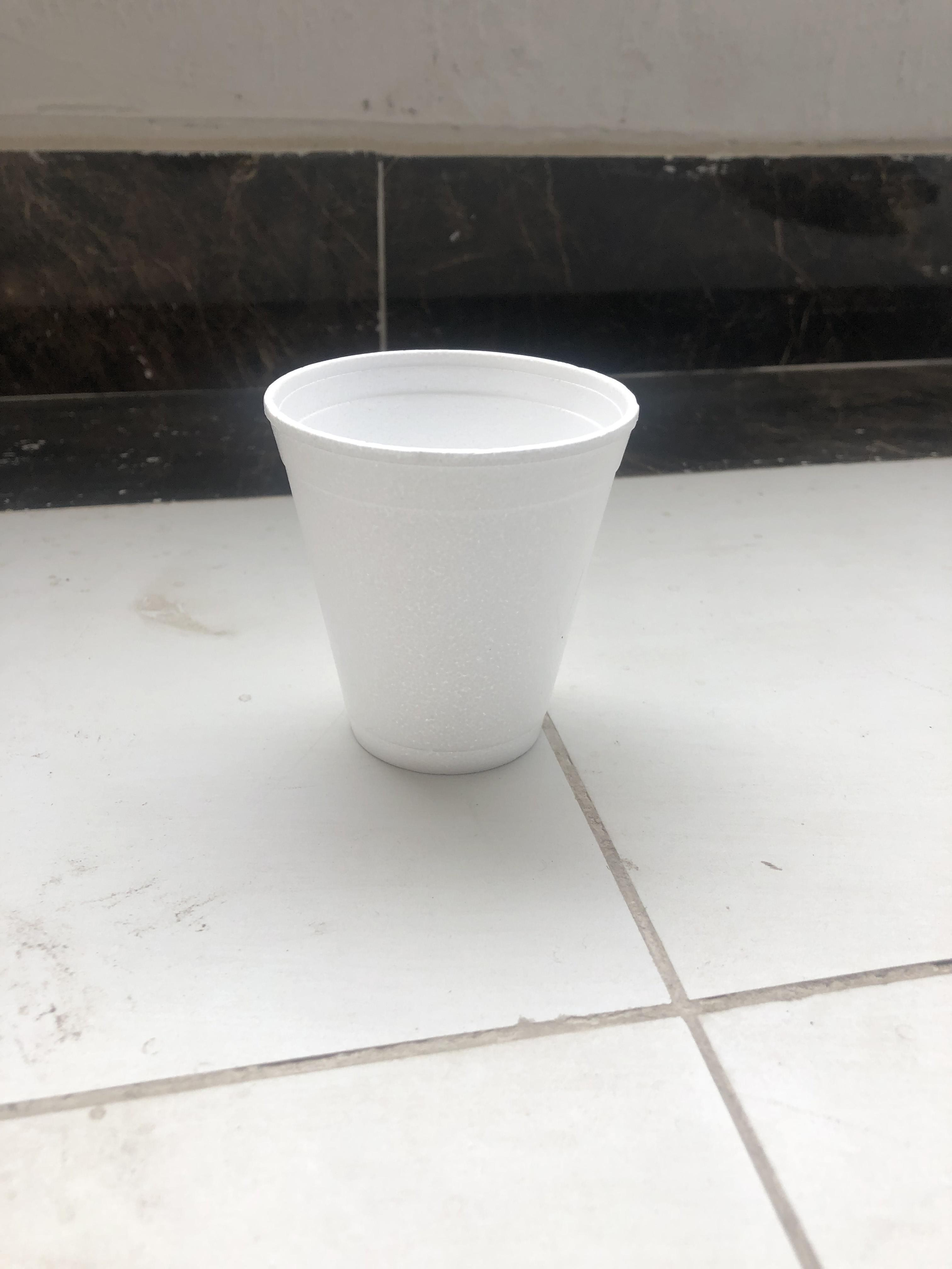cup-disposable: (261, 346, 640, 776)
